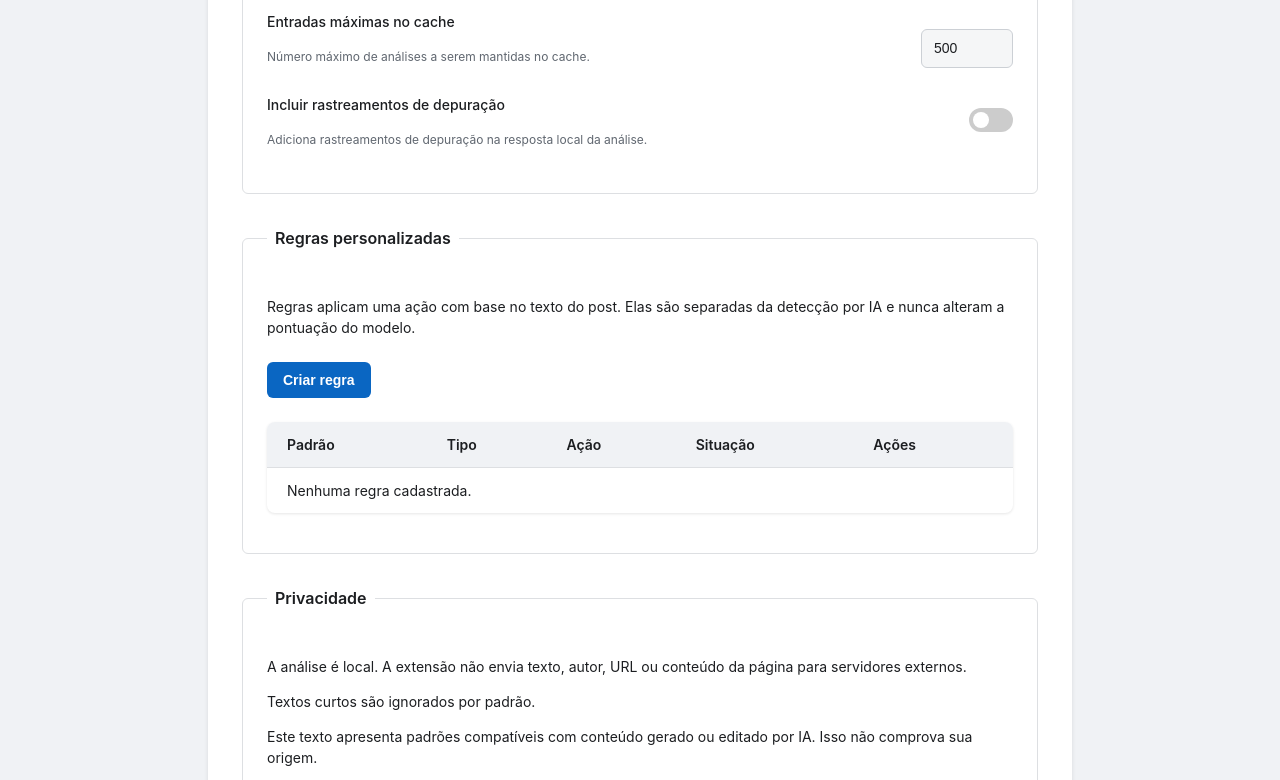
Test case: options keyword rules › blocks saving an unsafe regex and shows a safety error
(page scrolled)
Click the button "Criar regra" at (319, 380), box [267,362,371,398]
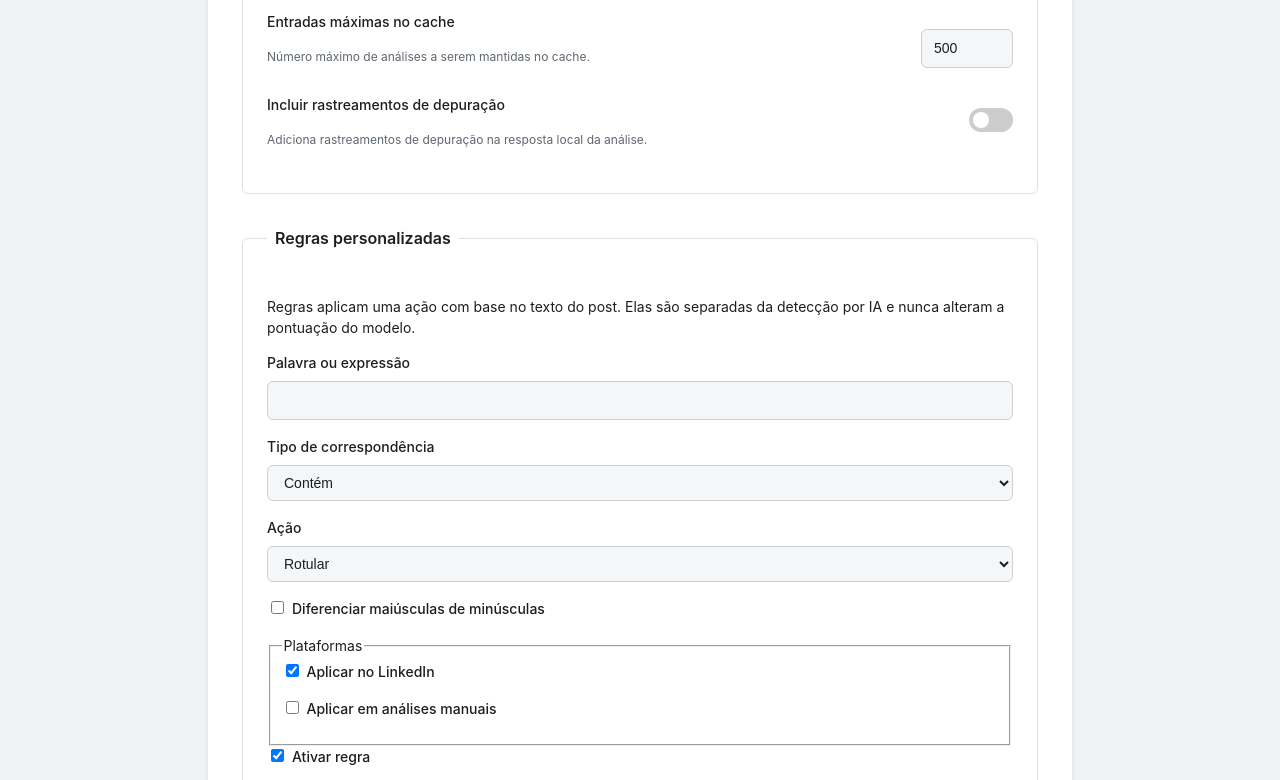
Type "(a+)+" into the field labelled "Palavra ou expressão" at (640, 401), box [267,381,1013,420]
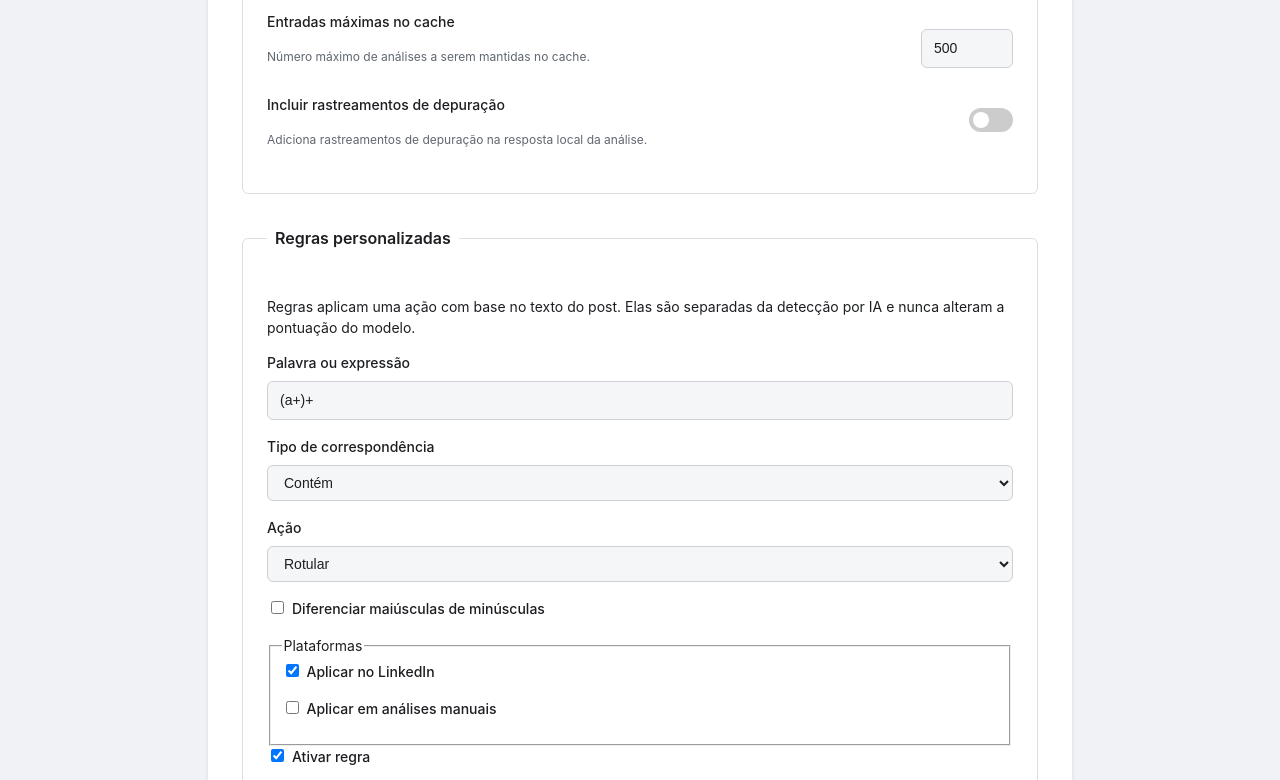
Select "Expressão regular" in the dropdown labelled "Tipo de correspondência" at (640, 483), box [267,465,1013,501]
(page scrolled)
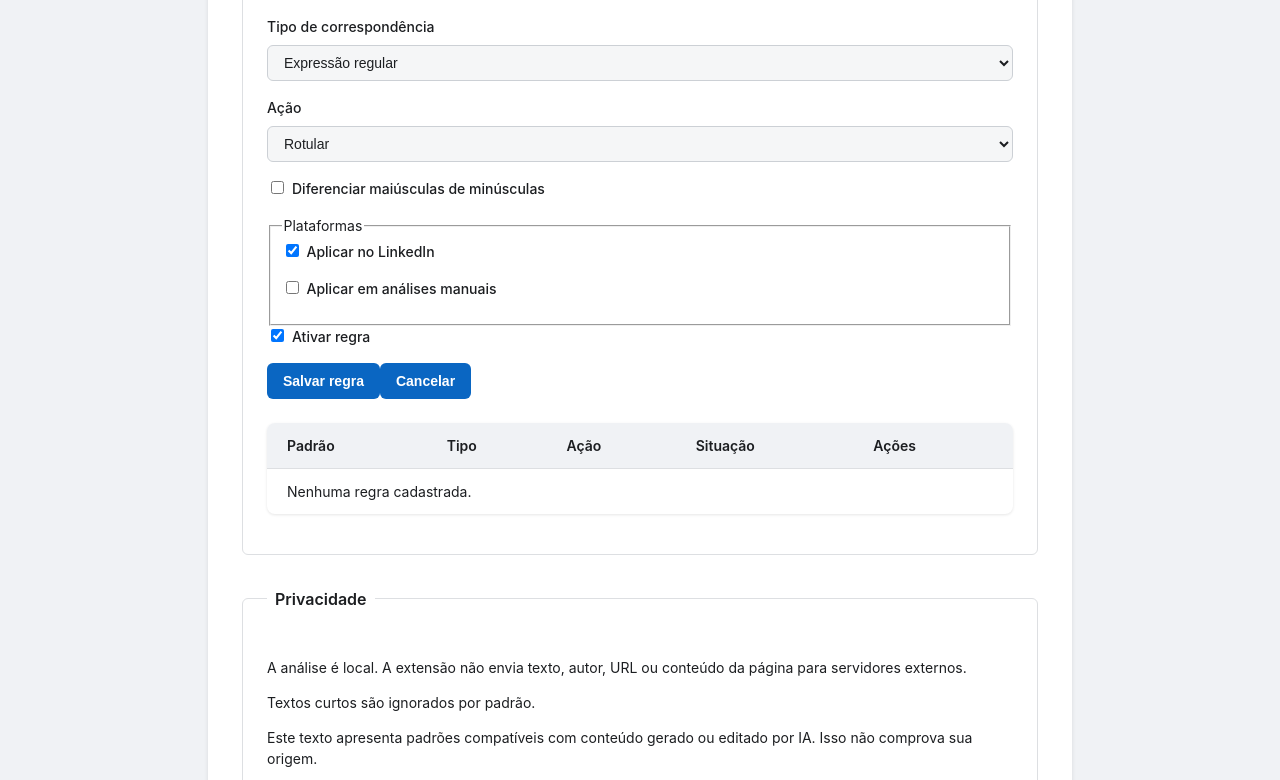
Click the button "Salvar regra" at (324, 381), box [267,363,380,399]
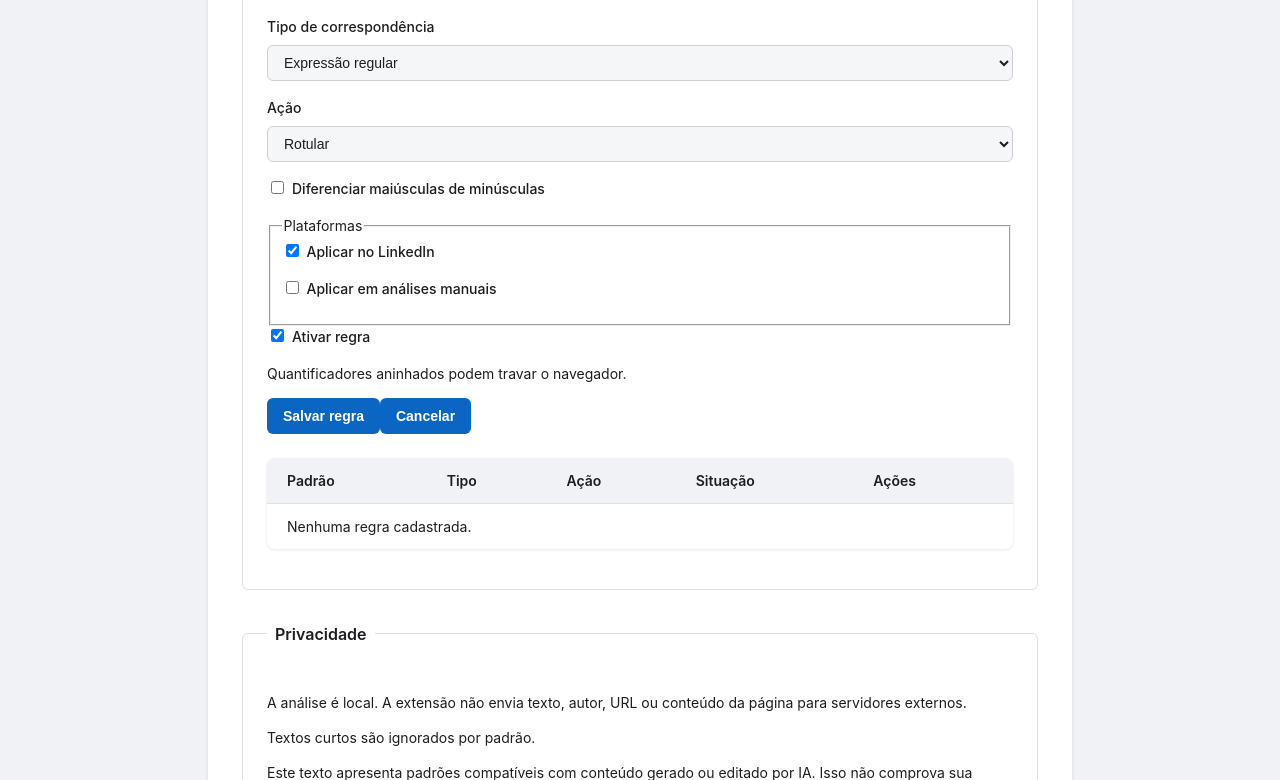
Result: the message shows "Quantificadores aninhados" at [267,365,626,382]
